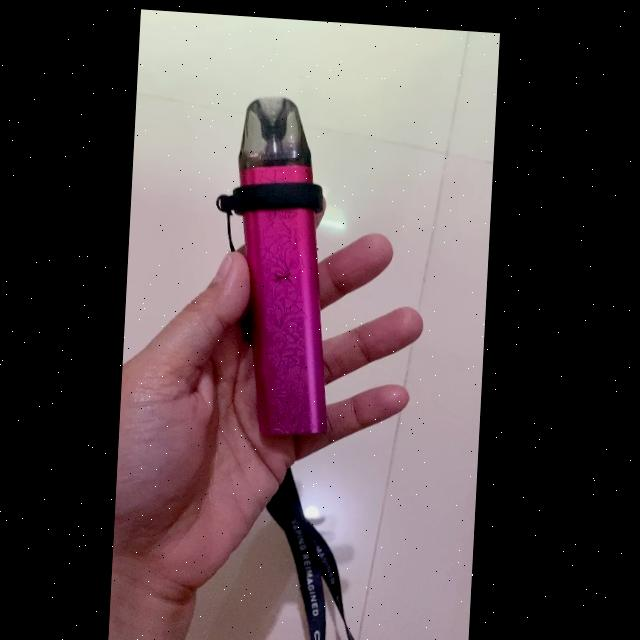vape: (229, 93, 345, 434)
